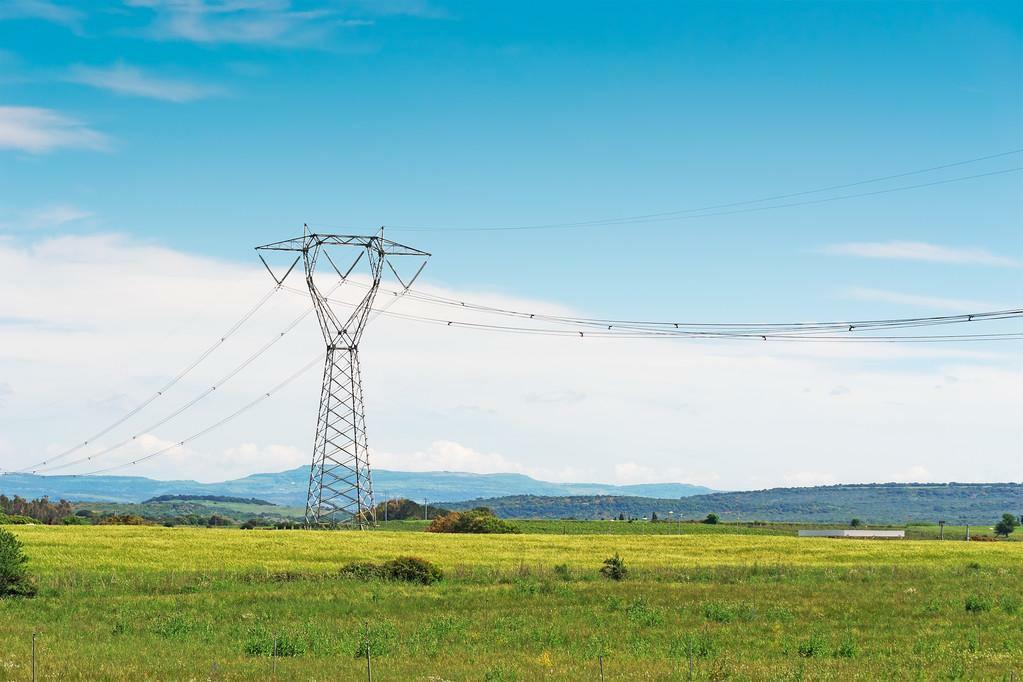power_tower: (263, 210, 440, 528)
